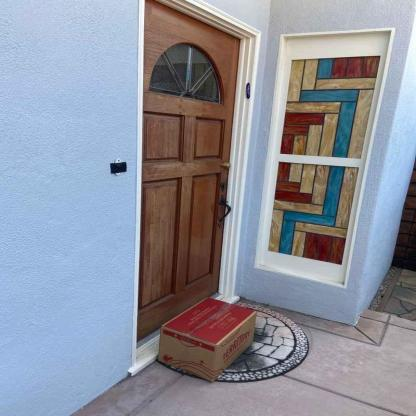package: (158, 296, 257, 382)
